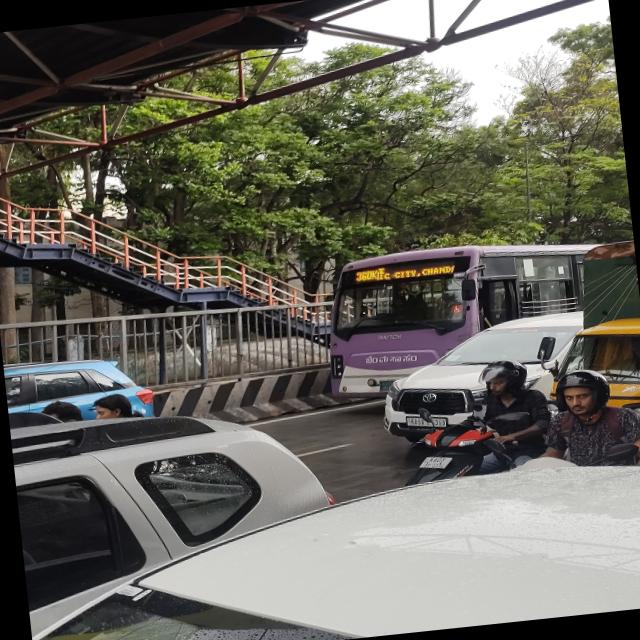bus: (312, 233, 594, 399)
display: (348, 258, 457, 286)
dnumber: (354, 269, 378, 283)
